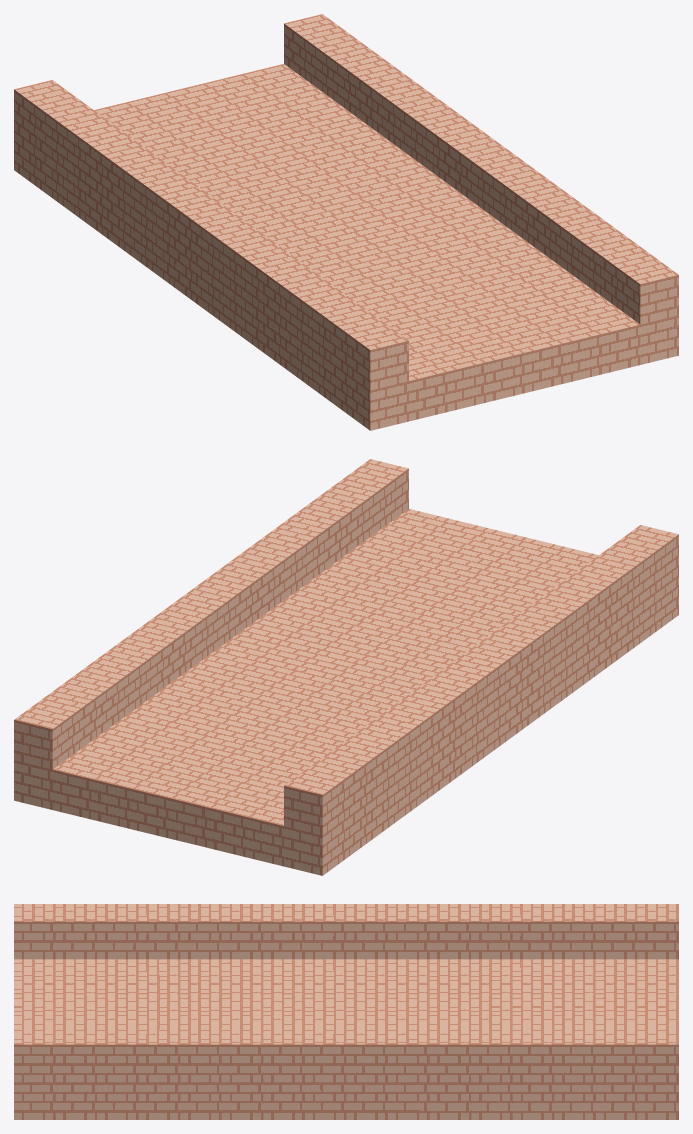
The model's file is Past Bridge.gltf.
The picture shows the model from 3 angles, top to bottom: view 1: azimuth 30°, elevation 25°; view 2: azimuth 150°, elevation 25°; view 3: azimuth 270°, elevation 25°; orthographic projection. The views are drawn at different scales.
Bounding box in the file's own units: 8 × 2 × 16.
1 material, 1 textured.
